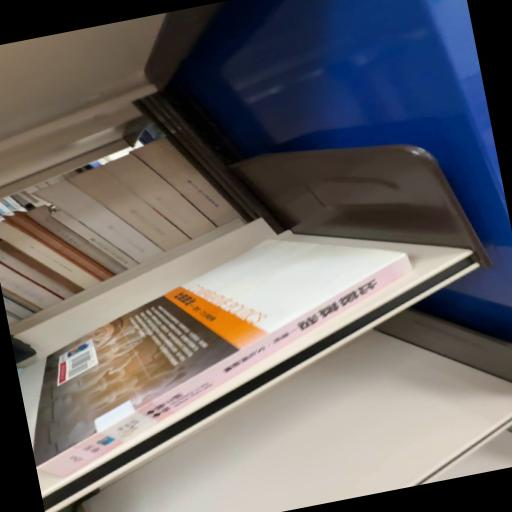flat: (33, 241, 413, 478)
